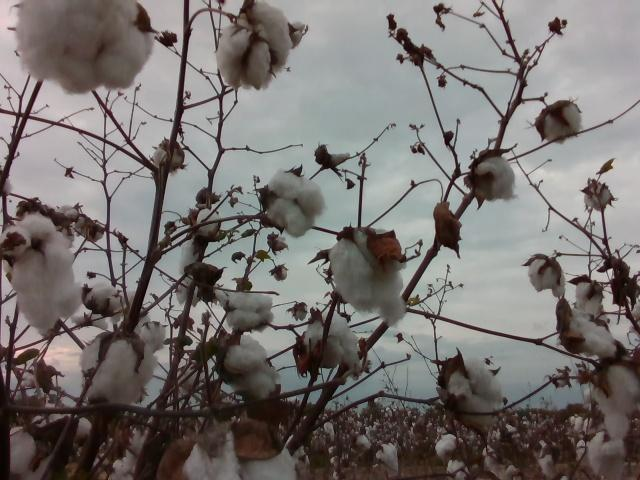cotton_ready: (18, 0, 155, 94), (3, 216, 84, 334), (171, 419, 299, 480), (331, 227, 409, 324), (80, 335, 159, 404), (261, 167, 327, 235), (239, 0, 294, 76), (450, 357, 506, 431), (219, 337, 280, 402), (590, 364, 640, 439), (216, 25, 271, 90), (302, 311, 364, 368), (4, 425, 57, 480), (178, 210, 222, 274), (566, 307, 619, 359), (474, 155, 516, 204), (226, 291, 272, 330), (590, 432, 627, 480), (542, 101, 581, 145), (177, 274, 230, 306), (527, 256, 567, 297), (576, 281, 609, 324), (82, 283, 121, 312), (153, 141, 185, 170), (585, 185, 614, 208)
